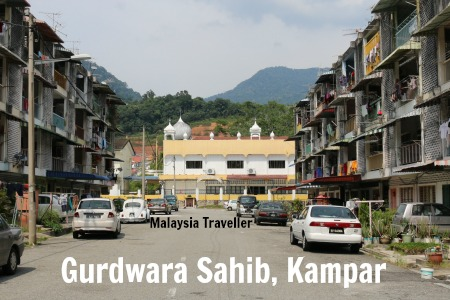Gurdwara: (143, 114, 297, 211)
